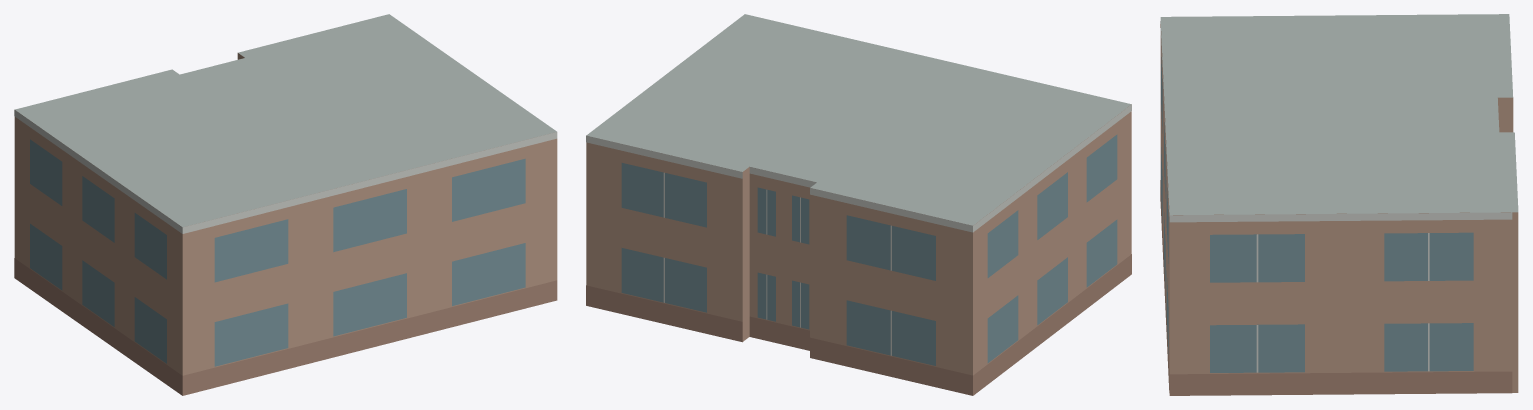
File: survey-upis-32878184.glb
3 views of the same model, side by side, from view 1: azimuth 30°, elevation 25°; view 2: azimuth 150°, elevation 25°; view 3: azimuth 270°, elevation 25° (orthographic). The views are drawn at different scales.
Visible parts, largest first — view 1: survey-upis-32878184.tmp; view 2: survey-upis-32878184.tmp; view 3: survey-upis-32878184.tmp.
Boxes of the visible parts, <box> form: survey-upis-32878184.tmp: <box>14,14,557,395</box>; survey-upis-32878184.tmp: <box>586,14,1131,395</box>; survey-upis-32878184.tmp: <box>1160,14,1518,395</box>.
Size of the model in its own units: 14.57 by 6.1 by 10.96.
